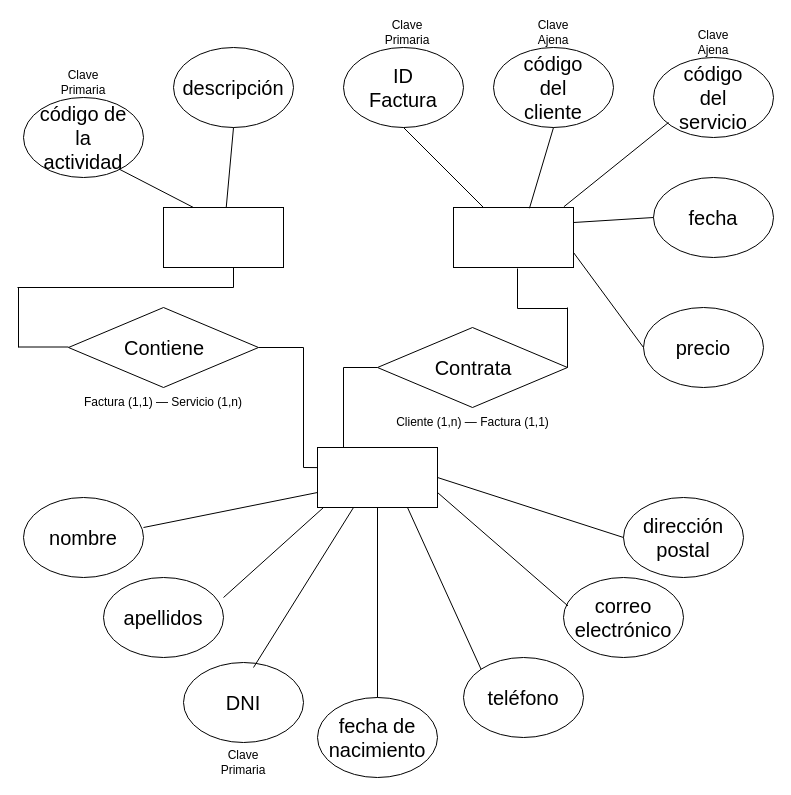
This 791x795 diagram has some shape labels left out. Here are the shapes that lost their labels. From the top down, the centre of each, then its label:
(x=223, y=237): Servicio
(x=513, y=237): Factura
(x=377, y=477): Cliente
